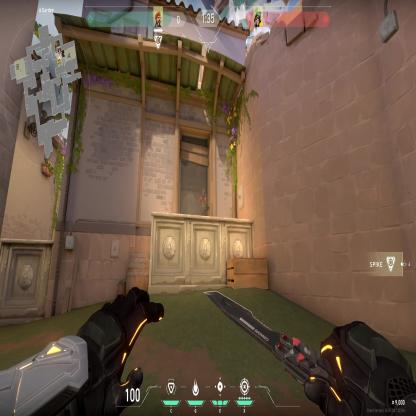enemy: (198, 186, 208, 216)
